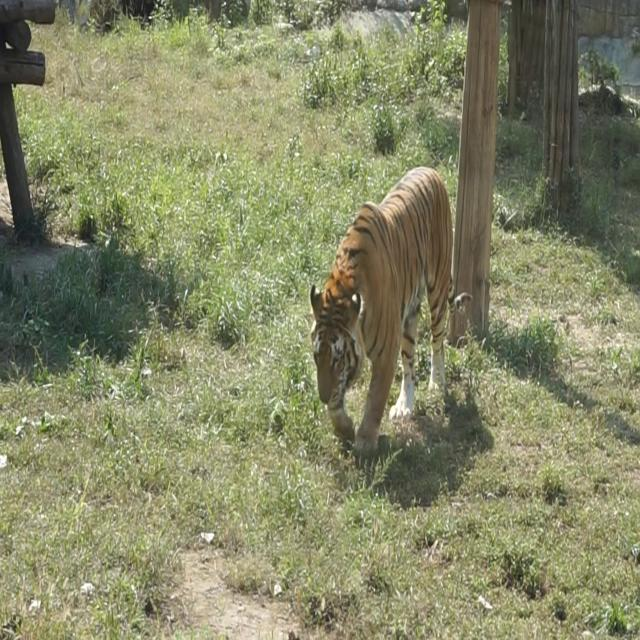Tiger: (284, 169, 470, 453)
